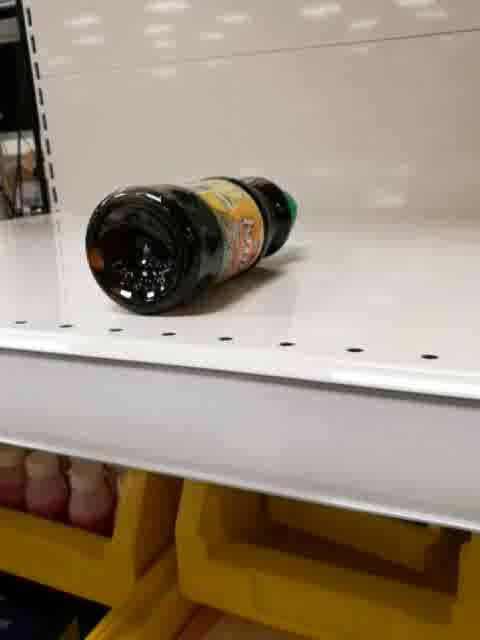cookingoil: (82, 170, 302, 319)
